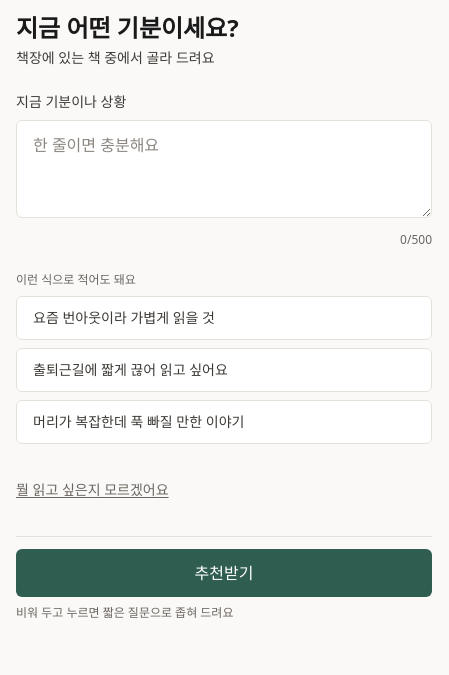
it: MoodInput › 한 글자는 추천으로도 문답으로도 보내지 않고 더 적도록 안내한다
The width and height of the screenshot is (449, 675).
Type "음" into the text box labelled "지금 기분이나 상황".
click(224, 169); type("음")  # box [16,120,432,218]
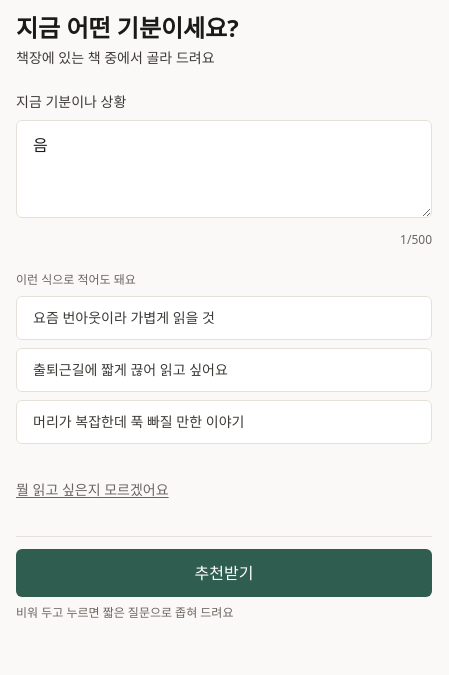
Replace the text in the text box labelled "지금 기분이나 상황" with "아" at (224, 169), box [16,120,432,218]
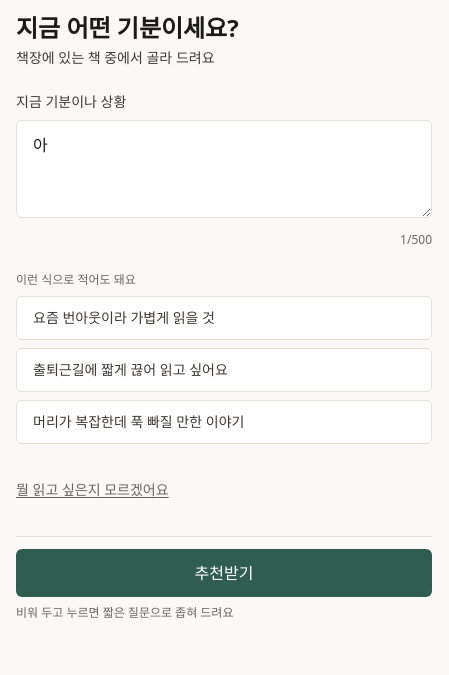
Click the button "추천받기".
click(224, 573)  # box [16,549,432,597]
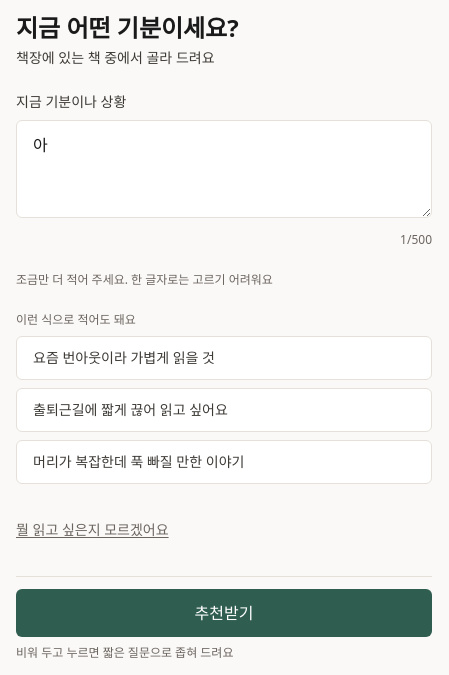
Expected: the text "조금만 더 적어 주세요. 한 글자로는 고르기 어려워요" is shown, [16,271,273,288]
